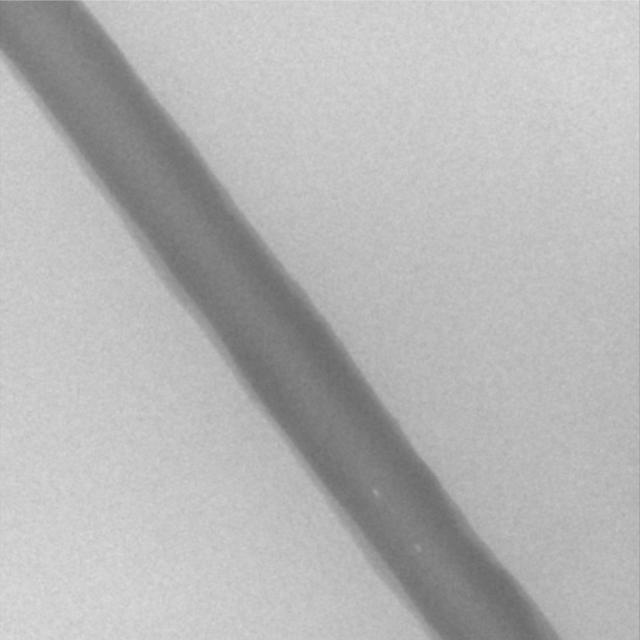air hole: (412, 542, 423, 553), (371, 488, 381, 498)
